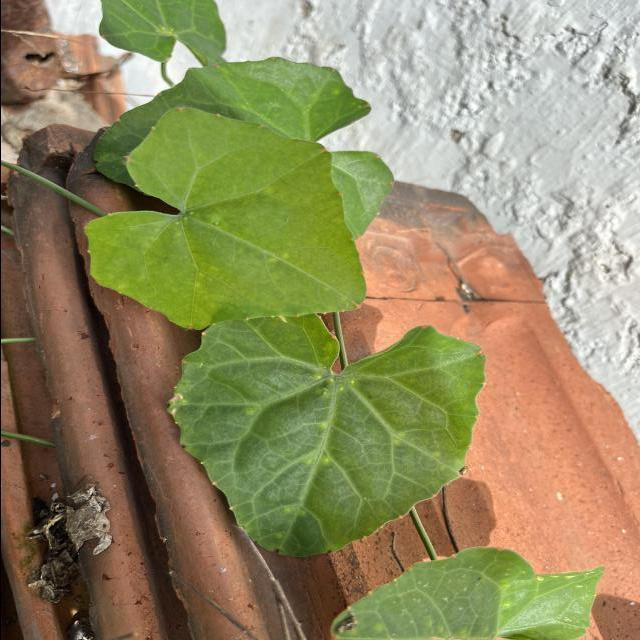Coccinia grandis: (162, 313, 489, 560), (80, 105, 368, 334)
